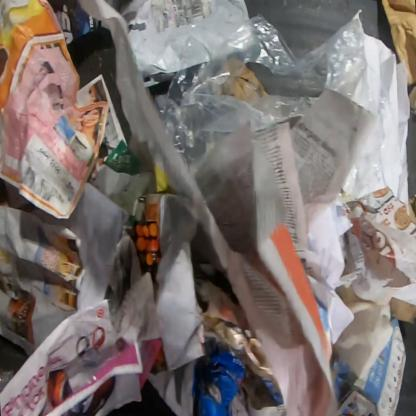cardboard: (190, 340, 246, 415), (381, 0, 415, 118)
soft_plastic: (153, 9, 399, 200), (121, 0, 250, 78)
